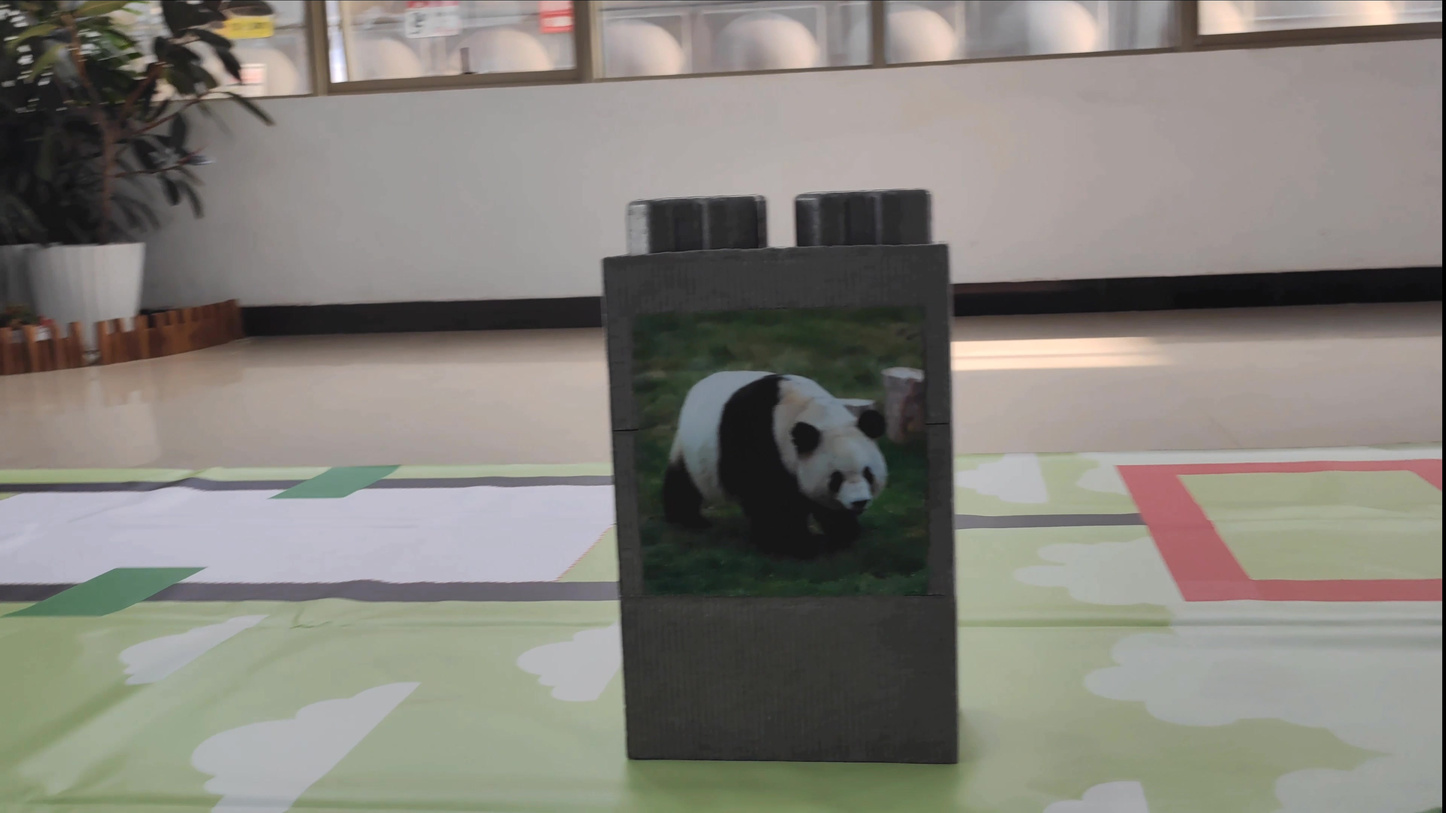panda: (643, 331, 899, 589)
